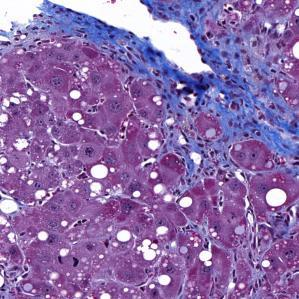fibrosis: (144, 62, 272, 144), (172, 2, 282, 77), (68, 13, 152, 69)
